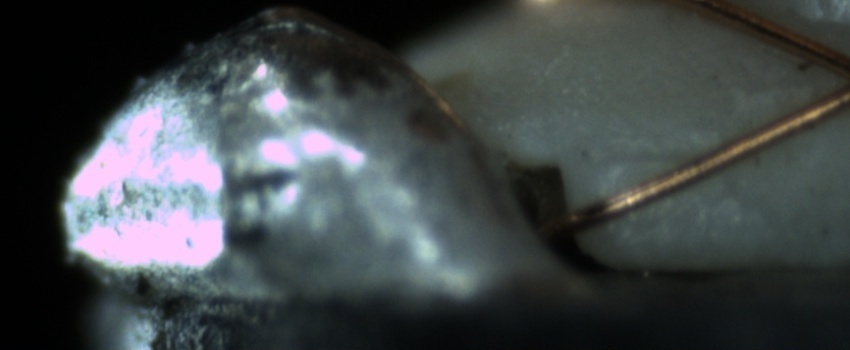CL: (810, 37, 850, 116)
DL: (601, 125, 722, 186)
